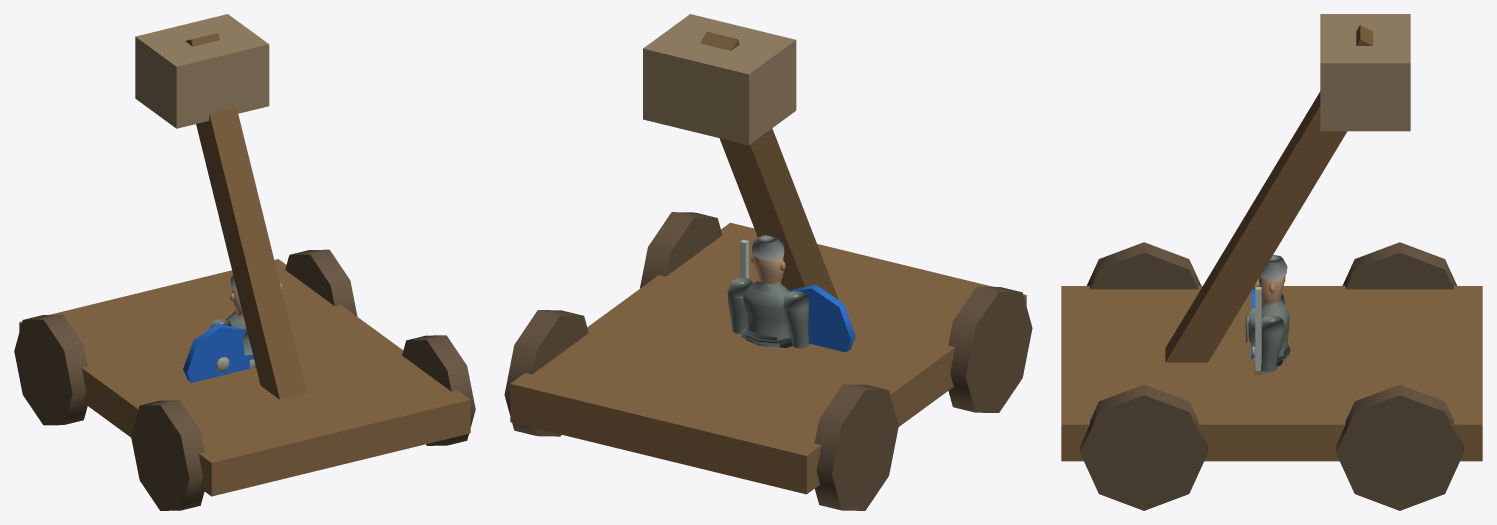
Rendered from catapult_team0.glb.
3 views of the same model, side by side, from view 1: azimuth 30°, elevation 25°; view 2: azimuth 150°, elevation 25°; view 3: azimuth 270°, elevation 25° (orthographic). The views are drawn at different scales.
Parts seen in each view (by area): view 1: part_11, part_16, part_17, part_12, part_13, part_15, part_3, part_14; view 2: part_11, part_17, part_12, part_13, part_16, part_14, part_15, part_0, part_3, part_1, part_2, part_5; view 3: part_11, part_16, part_14, part_15, part_17, part_12, part_13, part_5, part_1, part_0, part_6.
Part boxes in pixels (left/top/right/bottom): part_11: left=19, top=259, right=470, bottom=496; part_16: left=185, top=33, right=306, bottom=399; part_17: left=135, top=14, right=269, bottom=128; part_12: left=14, top=314, right=87, bottom=425; part_13: left=131, top=400, right=204, bottom=510; part_15: left=402, top=335, right=475, bottom=445; part_3: left=183, top=324, right=253, bottom=382; part_14: left=285, top=249, right=357, bottom=316; part_11: left=510, top=222, right=1026, bottom=494; part_17: left=643, top=14, right=796, bottom=145; part_12: left=814, top=384, right=898, bottom=510; part_13: left=948, top=286, right=1032, bottom=412; part_16: left=700, top=31, right=838, bottom=299; part_14: left=504, top=310, right=588, bottom=436; part_15: left=640, top=212, right=722, bottom=288; part_0: left=743, top=281, right=791, bottom=347; part_3: left=789, top=285, right=855, bottom=352; part_1: left=751, top=235, right=785, bottom=285; part_2: left=783, top=291, right=809, bottom=348; part_5: left=727, top=278, right=752, bottom=333; part_11: left=1061, top=286, right=1482, bottom=461; part_16: left=1165, top=25, right=1373, bottom=362; part_14: left=1336, top=384, right=1463, bottom=510; part_15: left=1080, top=384, right=1207, bottom=510; part_17: left=1320, top=14, right=1410, bottom=131; part_12: left=1342, top=242, right=1457, bottom=289; part_13: left=1086, top=242, right=1201, bottom=289; part_5: left=1261, top=315, right=1285, bottom=372; part_1: left=1252, top=255, right=1287, bottom=306; part_0: left=1245, top=299, right=1290, bottom=362; part_6: left=1255, top=287, right=1261, bottom=370.
Size of the model in its own units: 2.32 by 2.85 by 2.7.
